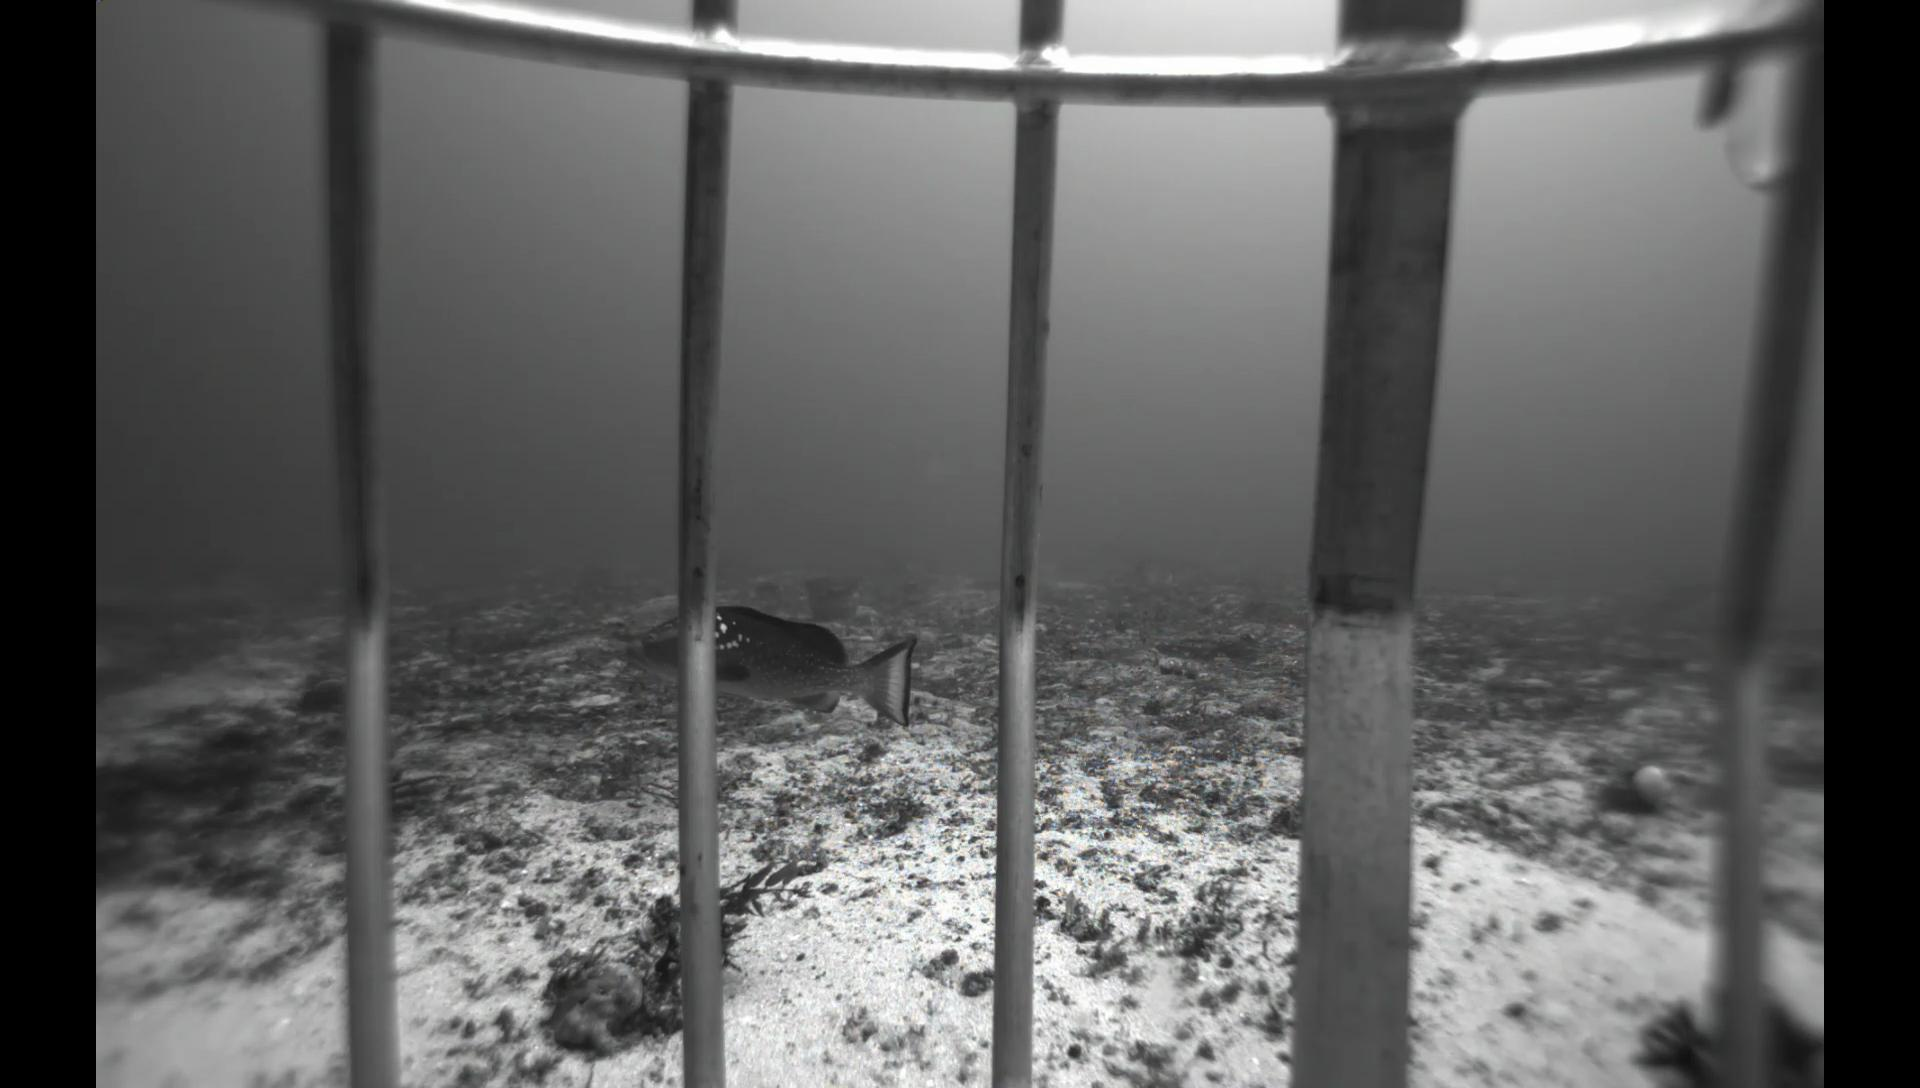CHAETODONOCELLATUS-170260307: (1143, 570, 1162, 586), (1162, 572, 1178, 588)
EPINEPHELUSMORIO-170021211: (629, 601, 920, 731)
HALICHOERESBIVITTATUS-170281202: (174, 711, 249, 741)
PRISTIGENYSALTA-170050401: (287, 674, 345, 717)
